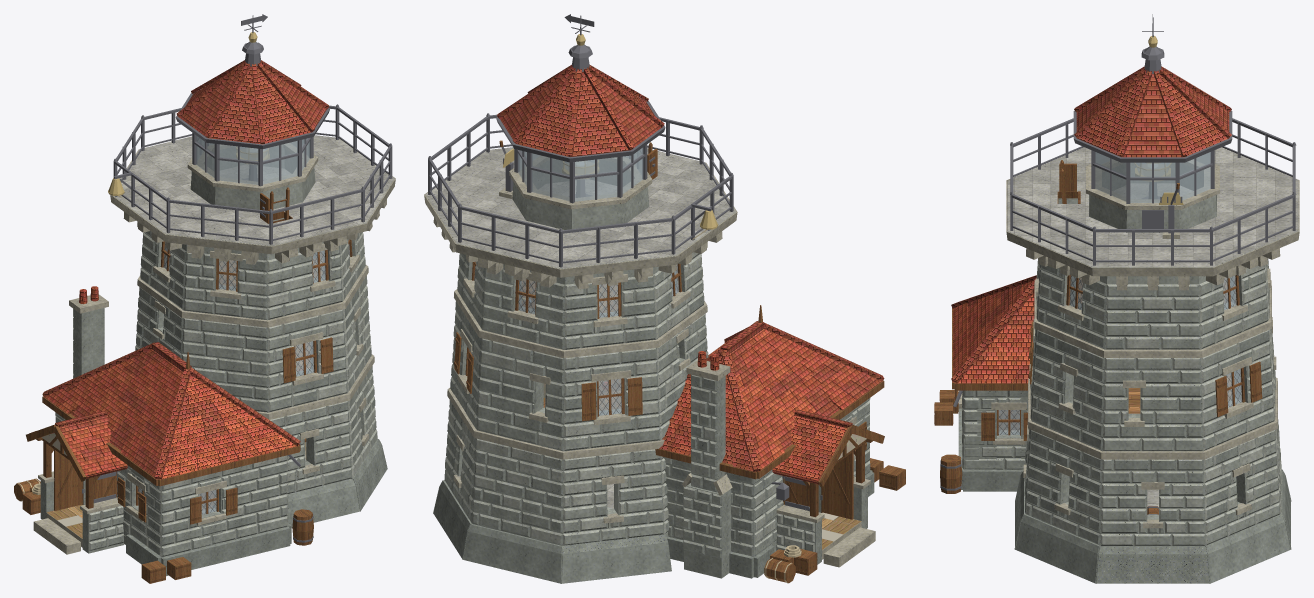
Rendered from lastlight.glb.
The picture shows the model from 3 angles, left to right: view 1: azimuth 30°, elevation 25°; view 2: azimuth 150°, elevation 25°; view 3: azimuth 270°, elevation 25°; orthographic projection. The views are drawn at different scales.
Visible parts, largest first — view 1: Lastlight_Roof, Lastlight_UpperShellKeeper, Lastlight_ShellWing, Lastlight_UpperFloorGalleryTiles, Lastlight_UpperShellWatch, Lastlight_UpperGallery, Lastlight_ShellTower, Lastlight_UpperLantern, Lastlight_ShellPlinth, Lastlight_ShellPorch, Lastlight_GlazingLantern, Lastlight_UpperShellString (+7 smaller); view 2: Lastlight_Roof, Lastlight_UpperShellKeeper, Lastlight_ShellTower, Lastlight_UpperFloorGalleryTiles, Lastlight_UpperShellWatch, Lastlight_UpperGallery, Lastlight_ShellPlinth, Lastlight_UpperLantern, Lastlight_ShellWing, Lastlight_UpperShellString, Lastlight_GlazingLantern, Lastlight_ShellPorch (+6 smaller); view 3: Lastlight_UpperShellKeeper, Lastlight_ShellTower, Lastlight_Roof, Lastlight_UpperFloorGalleryTiles, Lastlight_UpperShellWatch, Lastlight_ShellPlinth, Lastlight_UpperGallery, Lastlight_UpperLantern, Lastlight_ShellWing, Lastlight_UpperShellString, Lastlight_GlazingLantern, Lastlight_Yard (+4 smaller).
Part boxes in pixels (x1,y1,x2,y2): Lastlight_Roof: [26, 14, 329, 486]; Lastlight_UpperShellKeeper: [135, 253, 371, 412]; Lastlight_ShellWing: [55, 412, 291, 576]; Lastlight_UpperFloorGalleryTiles: [114, 135, 394, 245]; Lastlight_UpperShellWatch: [140, 231, 365, 320]; Lastlight_UpperGallery: [108, 104, 395, 264]; Lastlight_ShellTower: [270, 366, 377, 494]; Lastlight_UpperLantern: [187, 133, 318, 209]; Lastlight_ShellPlinth: [287, 439, 387, 527]; Lastlight_ShellPorch: [36, 437, 124, 553]; Lastlight_GlazingLantern: [196, 135, 310, 184]; Lastlight_UpperShellString: [137, 265, 374, 419]; Lastlight_Roof: [496, 14, 884, 578]; Lastlight_UpperShellKeeper: [450, 301, 708, 451]; Lastlight_ShellTower: [444, 400, 669, 545]; Lastlight_UpperFloorGalleryTiles: [425, 147, 735, 268]; Lastlight_UpperShellWatch: [457, 252, 704, 349]; Lastlight_UpperGallery: [424, 113, 737, 289]; Lastlight_ShellPlinth: [433, 480, 671, 583]; Lastlight_UpperLantern: [509, 144, 652, 229]; Lastlight_ShellWing: [664, 398, 874, 578]; Lastlight_UpperShellString: [447, 289, 707, 459]; Lastlight_GlazingLantern: [518, 148, 643, 201]; Lastlight_ShellPorch: [776, 438, 872, 564]; Lastlight_UpperShellKeeper: [1029, 317, 1276, 451]; Lastlight_ShellTower: [1023, 419, 1281, 546]; Lastlight_Roof: [951, 14, 1232, 390]; Lastlight_UpperFloorGalleryTiles: [1007, 147, 1298, 266]; Lastlight_UpperShellWatch: [1035, 200, 1270, 349]; Lastlight_ShellPlinth: [1014, 469, 1291, 583]; Lastlight_UpperGallery: [1006, 118, 1299, 290]; Lastlight_UpperLantern: [1086, 150, 1219, 232]; Lastlight_ShellWing: [954, 390, 1027, 491]; Lastlight_UpperShellString: [1028, 280, 1277, 459]; Lastlight_GlazingLantern: [1095, 152, 1210, 202]; Lastlight_Yard: [934, 390, 962, 493].
Size of the model in its own units: 11.98 by 15.4 by 10.04.
Materials: 33 (21 with a texture image).
